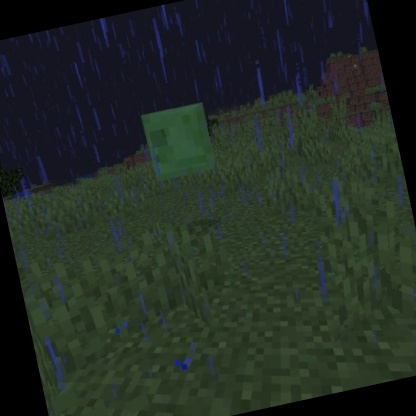slime: (137, 98, 222, 190)
